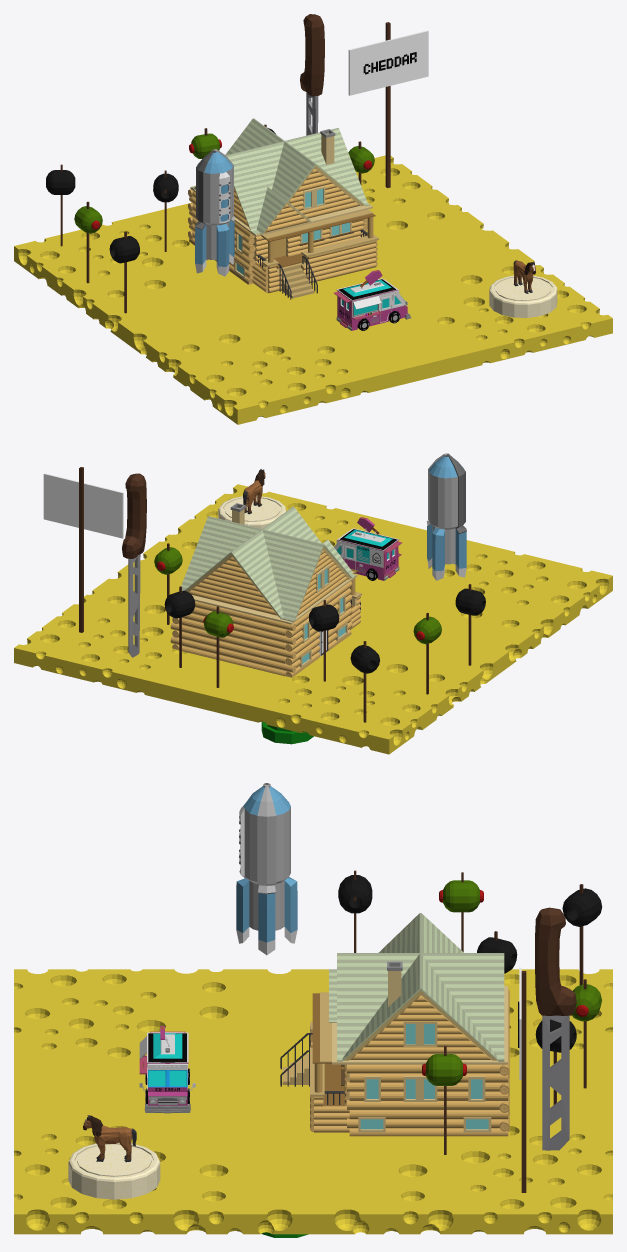
The picture shows the model from 3 angles, top to bottom: view 1: azimuth 30°, elevation 25°; view 2: azimuth 150°, elevation 25°; view 3: azimuth 270°, elevation 25°; orthographic projection. The views are drawn at different scales.
Parts seen in each view (by area): view 1: Cube.022, Cube.1516, Cube.023, OBJRANDOM_ROCKETSHIP, VEHICLES_ICE_CREAM_TRUCK, Cylinder.016, Cube.024, Sphere.017, Sphere.016, Sphere.018, Sphere.020, Sphere.022 (+1 smaller); view 2: Cube.022, Cube.1516, Cube.023, OBJRANDOM_ROCKETSHIP, Cube.024, VEHICLES_ICE_CREAM_TRUCK, Cylinder.016, Sphere.017, Sphere.022, Sphere.016, Sphere.021, Sphere.020 (+4 smaller); view 3: Cube.022, Cube.1516, OBJRANDOM_ROCKETSHIP, Cube.024, Cylinder.016, VEHICLES_ICE_CREAM_TRUCK, Cube.023, Sphere.016, Sphere.019, Sphere.018, Sphere.017, ANIMAL_CABALLO (+3 smaller).
Part boxes in pixels (left/top/right/bottom): Cube.022: left=14, top=155, right=612, bottom=424; Cube.1516: left=188, top=118, right=378, bottom=299; Cube.023: left=348, top=22, right=428, bottom=188; OBJRANDOM_ROCKETSHIP: left=195, top=149, right=234, bottom=276; VEHICLES_ICE_CREAM_TRUCK: left=334, top=270, right=410, bottom=330; Cylinder.016: left=489, top=275, right=557, bottom=317; Cube.024: left=300, top=14, right=324, bottom=135; Sphere.017: left=109, top=231, right=139, bottom=313; Sphere.016: left=46, top=164, right=75, bottom=246; Sphere.018: left=74, top=201, right=102, bottom=283; Sphere.020: left=153, top=170, right=178, bottom=251; Sphere.022: left=189, top=128, right=221, bottom=158; Cube.022: left=14, top=484, right=612, bottom=754; Cube.1516: left=170, top=503, right=361, bottom=677; Cube.023: left=43, top=467, right=123, bottom=632; OBJRANDOM_ROCKETSHIP: left=426, top=453, right=466, bottom=580; Cube.024: left=122, top=473, right=146, bottom=657; VEHICLES_ICE_CREAM_TRUCK: left=334, top=517, right=401, bottom=580; Cylinder.016: left=218, top=496, right=286, bottom=528; Sphere.017: left=455, top=584, right=485, bottom=665; Sphere.022: left=203, top=606, right=233, bottom=687; Sphere.016: left=350, top=641, right=379, bottom=722; Sphere.021: left=164, top=586, right=195, bottom=667; Sphere.020: left=309, top=600, right=339, bottom=681; Cube.022: left=14, top=969, right=612, bottom=1234; Cube.1516: left=280, top=913, right=509, bottom=1136; OBJRANDOM_ROCKETSHIP: left=236, top=783, right=297, bottom=955; Cube.024: left=535, top=907, right=576, bottom=1150; Cylinder.016: left=68, top=1142, right=160, bottom=1199; VEHICLES_ICE_CREAM_TRUCK: left=139, top=1026, right=195, bottom=1113; Cube.023: left=518, top=967, right=526, bottom=1192; Sphere.016: left=562, top=884, right=602, bottom=985; Sphere.019: left=422, top=1045, right=466, bottom=1154; Sphere.018: left=439, top=872, right=483, bottom=951; Sphere.017: left=338, top=870, right=372, bottom=952; ANIMAL_CABALLO: left=83, top=1115, right=136, bottom=1162.
Size of the model in its own units: 3917 by 2590 by 4000.
49 materials, 4 textured.
